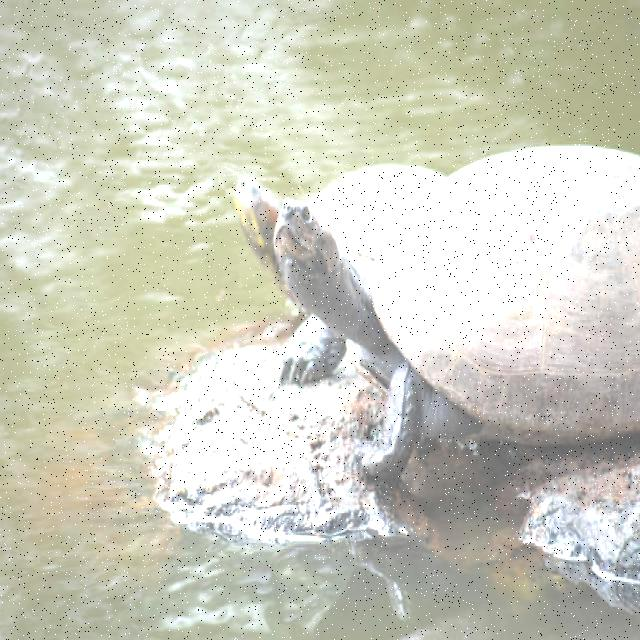tortoise: (210, 126, 640, 500)
